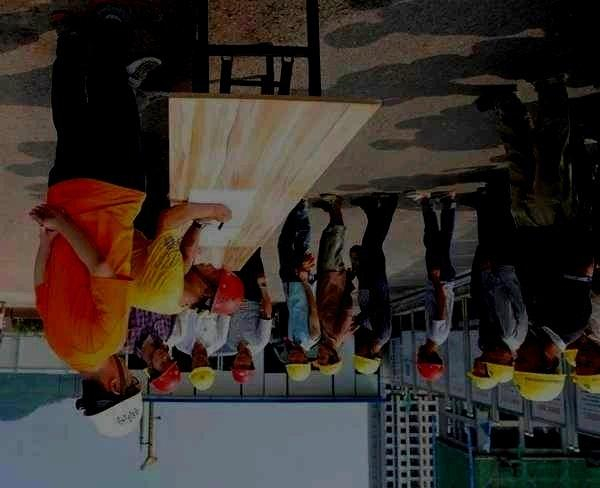helmet: (75, 354, 145, 438), (510, 336, 568, 402), (147, 350, 183, 394), (570, 342, 600, 393), (481, 343, 515, 384), (187, 350, 216, 392), (414, 345, 446, 381), (284, 344, 312, 383), (465, 357, 498, 390), (351, 340, 381, 376), (230, 351, 257, 385), (315, 344, 343, 376), (561, 336, 580, 366)
